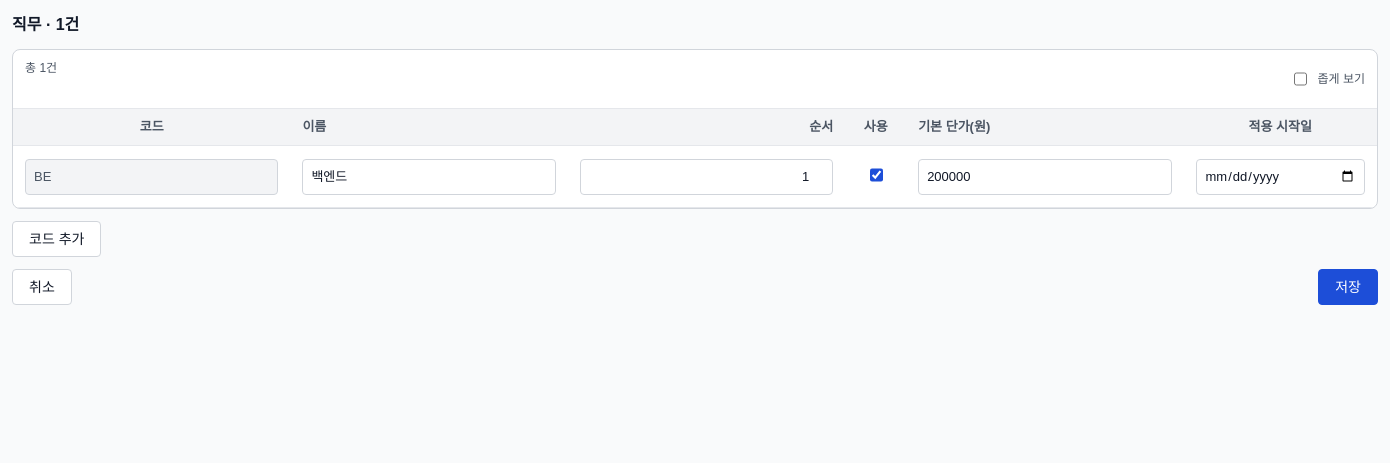
Test case: user-facing UI contract drift › focuses the server-rejected code field and keeps the edited draft
Replace the text in the field named "이름 1" with "수정": (429, 176) [302,158,556,194]
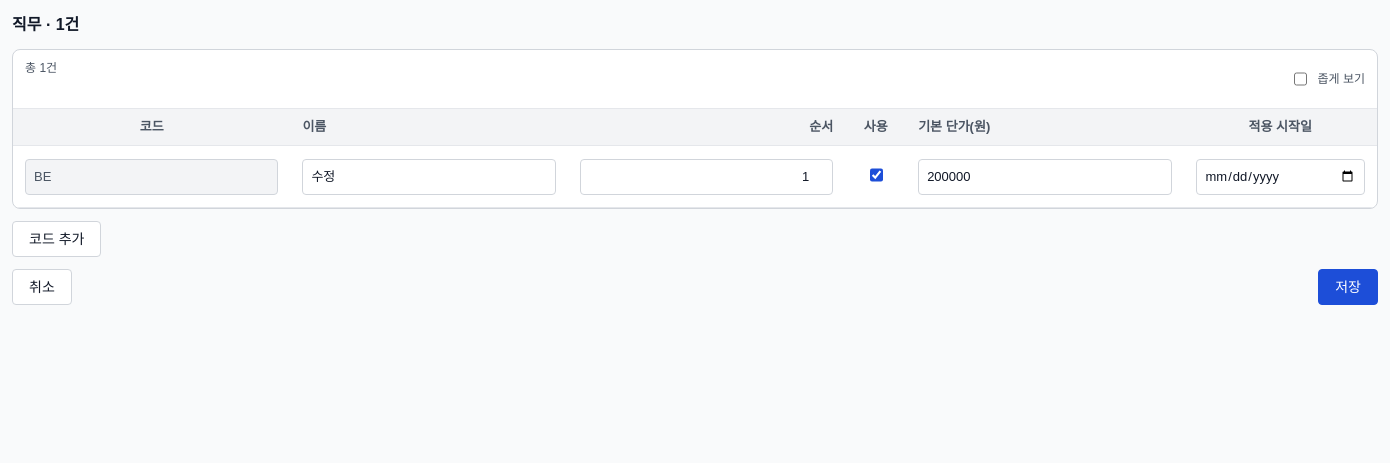
Click the button "저장": (1348, 287) [1318,269,1378,305]
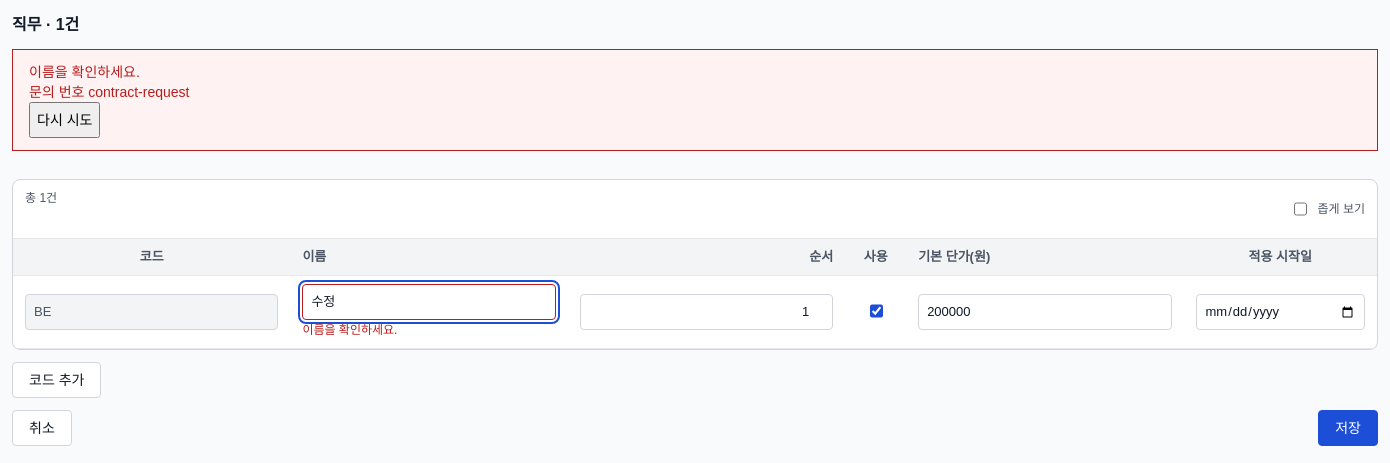
Expected: the text "문의 번호 contract-request" is shown, [29,84,190,100]
